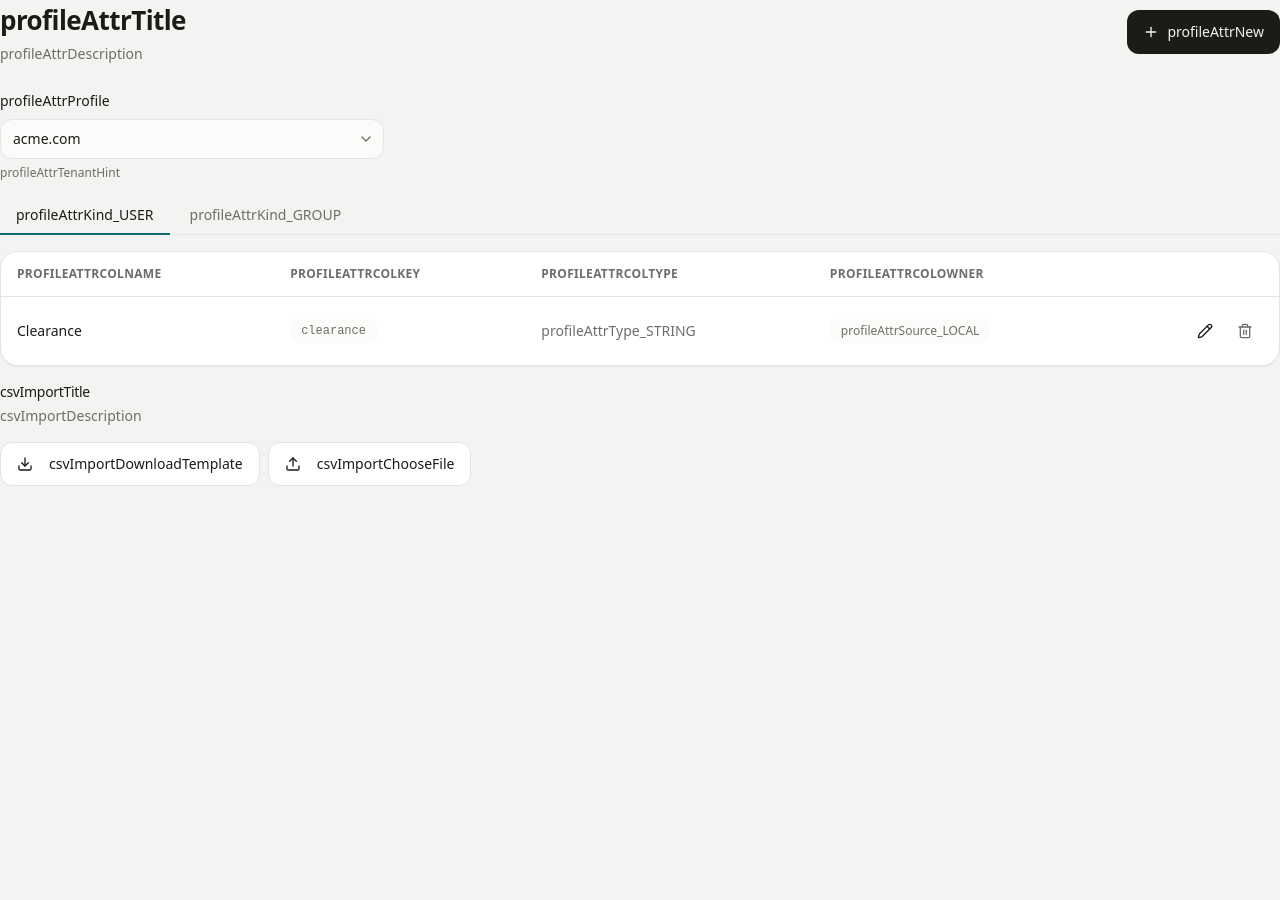
Test case: ProfileAttributes › edits a custom attribute with the key field locked
The width and height of the screenshot is (1280, 900).
Expected: the text "Clearance" is shown, [1,296,274,365]
Click the 4th button.
click(1205, 331)  # box [1187,313,1223,349]
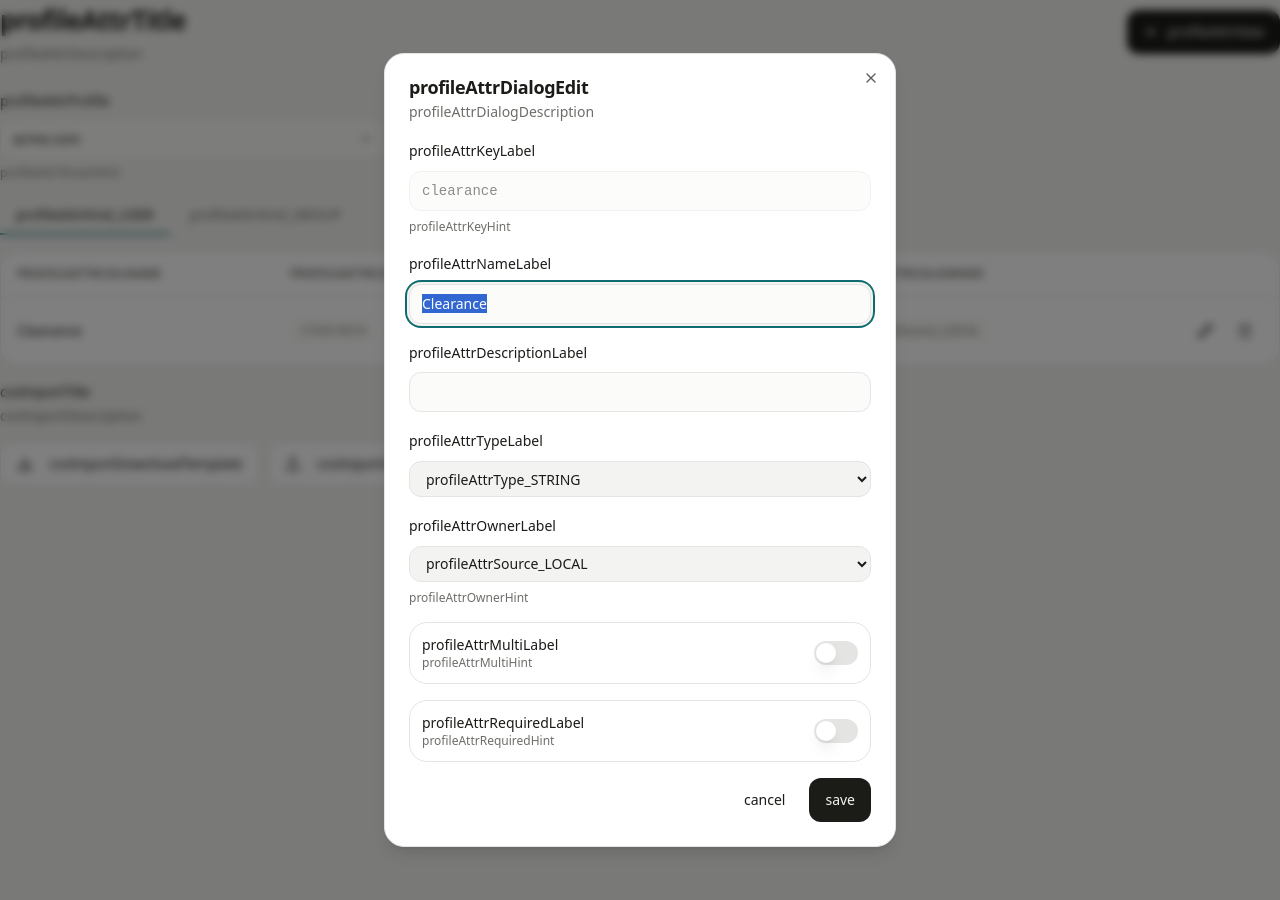
Expected: the field labelled "profileAttrKeyLabel" is disabled, [409,171,871,211]
Expected: the field labelled "profileAttrKeyLabel" holds "clearance", [409,171,871,211]
